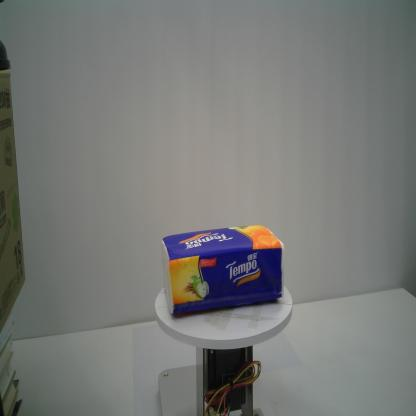Tissue: (160, 221, 286, 318)
